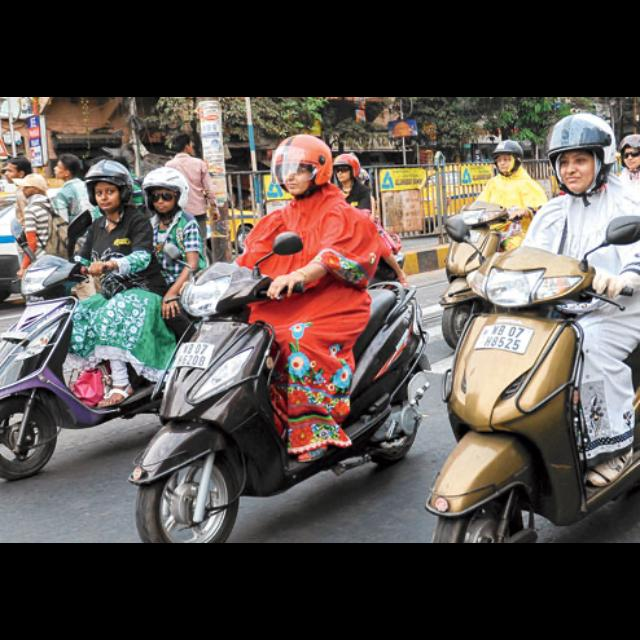With Helmet: (542, 109, 618, 198), (270, 130, 332, 198), (78, 155, 134, 217), (487, 133, 523, 177)
